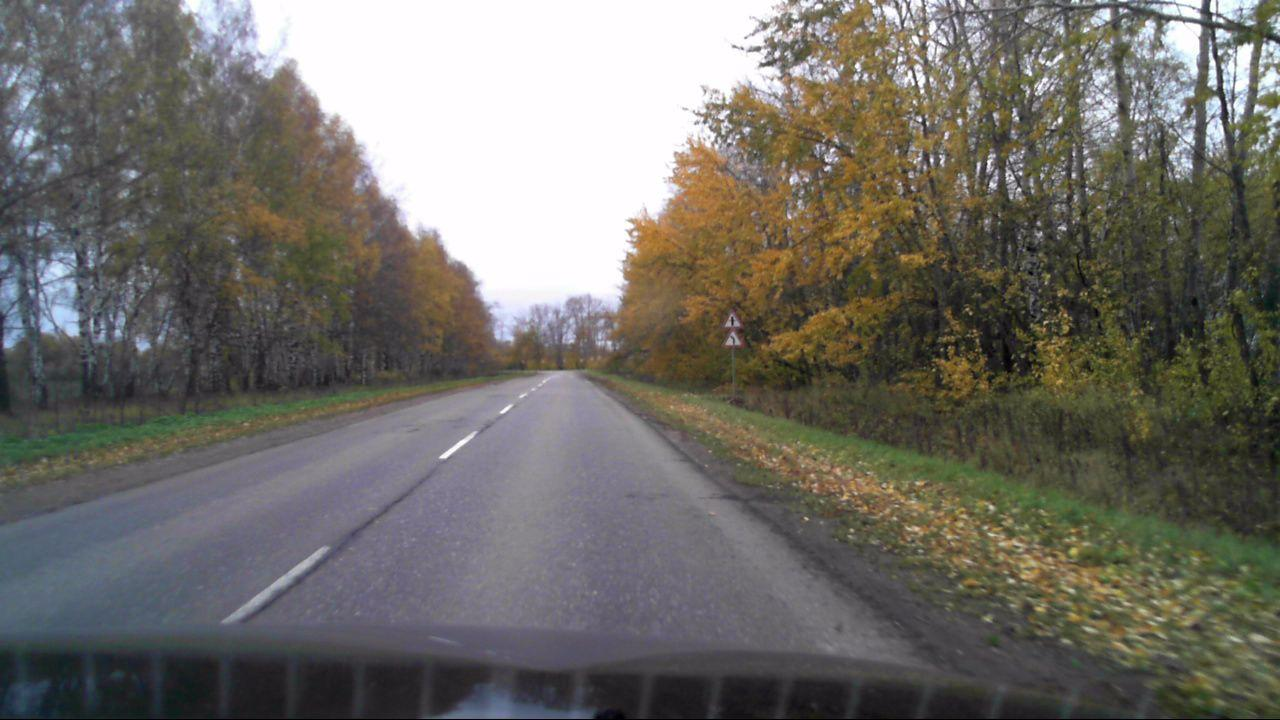road_sign: (720, 328, 744, 348), (721, 308, 745, 328)
